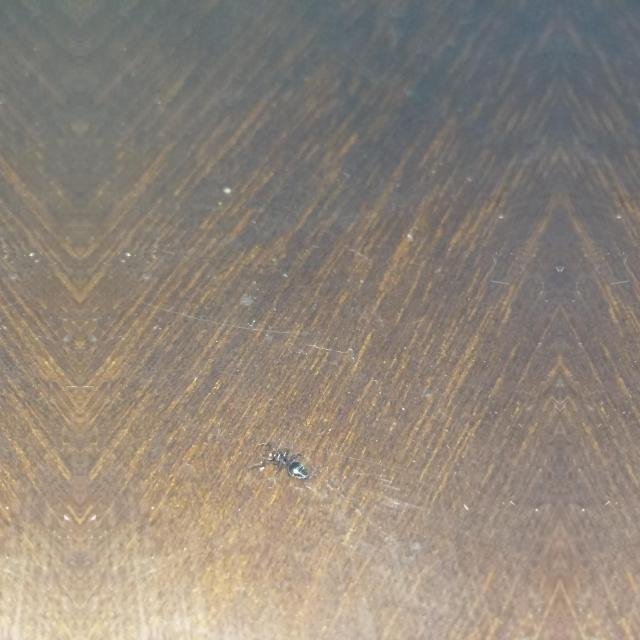Crematogaster: (258, 442, 312, 482)
